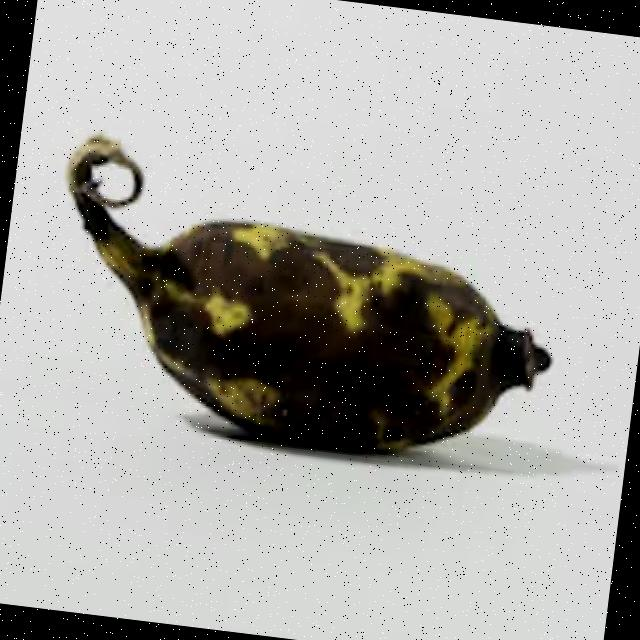Rotten: (29, 100, 578, 482)
